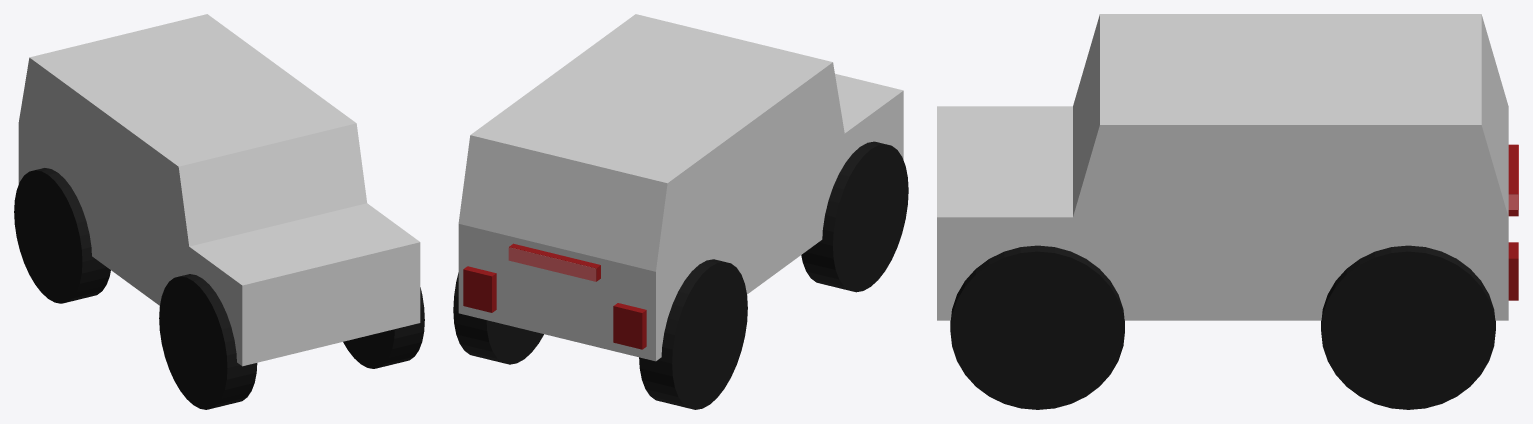
File: Base Car.fbx
3 views of the same model, side by side, from view 1: azimuth 30°, elevation 25°; view 2: azimuth 150°, elevation 25°; view 3: azimuth 270°, elevation 25° (orthographic). The views are drawn at different scales.
Parts seen in each view (by area): view 1: Car Base, Wheel FR, Wheels Back, Wheel FL; view 2: Car Base, Wheels Back, Wheel FR, Light BL, Light BR, Light Back Bright, Light Back; view 3: Car Base, Wheels Back, Wheel FL, Light BL, Light Back.
Boxes of the visible parts, x1=… form: Car Base: x1=18, y1=14, x2=420, y2=366; Wheel FR: x1=159, y1=274, x2=257, y2=409; Wheels Back: x1=14, y1=168, x2=110, y2=303; Wheel FL: x1=343, y1=287, x2=424, y2=368; Car Base: x1=458, y1=14, x2=903, y2=361; Wheels Back: x1=453, y1=259, x2=747, y2=409; Wheel FR: x1=801, y1=141, x2=908, y2=292; Light BL: x1=463, y1=266, x2=496, y2=312; Light BR: x1=613, y1=303, x2=646, y2=349; Light Back Bright: x1=508, y1=247, x2=596, y2=281; Light Back: x1=509, y1=243, x2=600, y2=281; Car Base: x1=937, y1=14, x2=1508, y2=320; Wheels Back: x1=1321, y1=245, x2=1495, y2=409; Wheel FL: x1=950, y1=245, x2=1124, y2=409; Light BL: x1=1508, y1=242, x2=1518, y2=300; Light Back: x1=1508, y1=144, x2=1518, y2=194.
Size of the model in its own units: 333 by 352 by 666.
